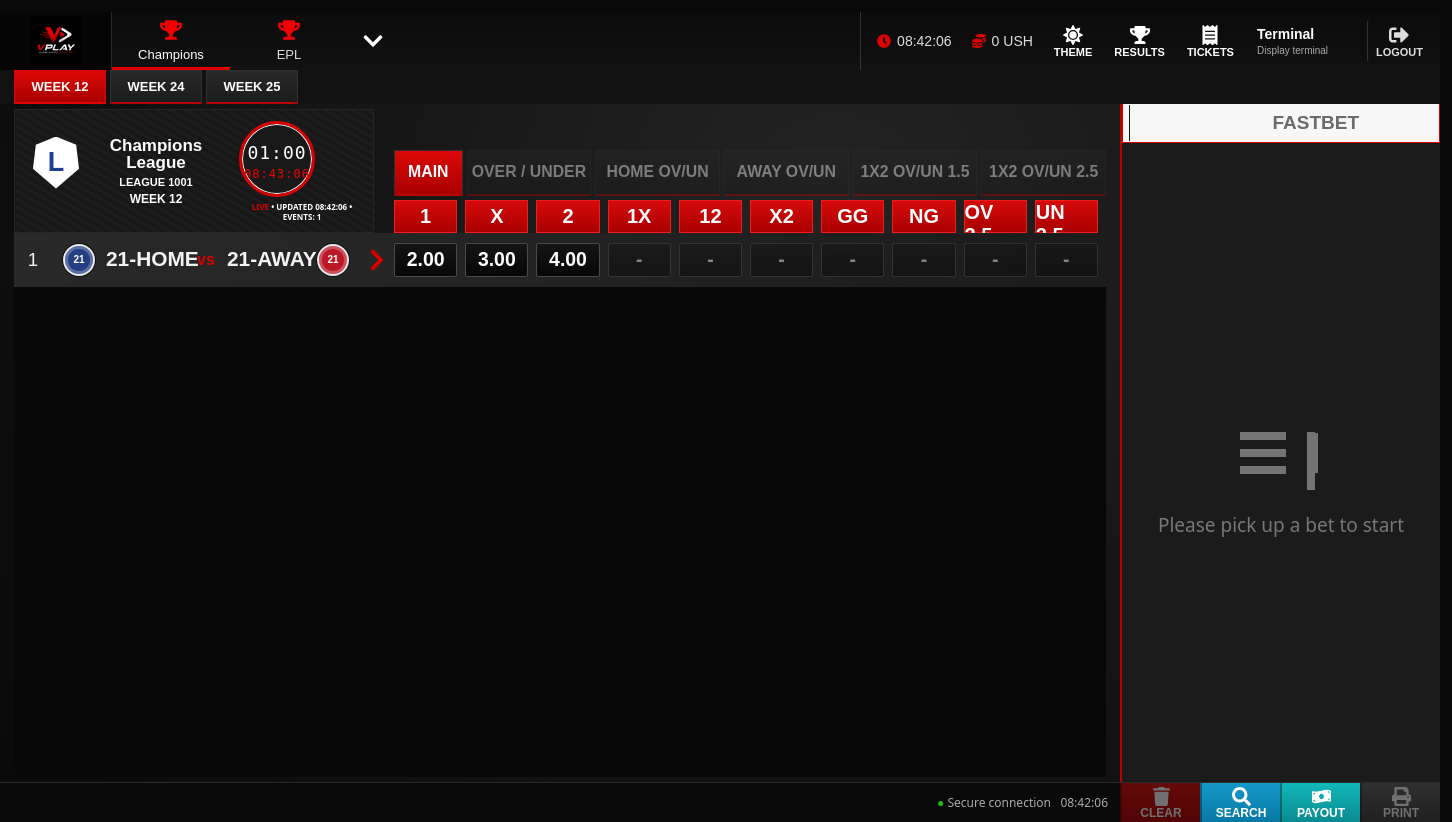
Test: league switches restore the selected week and socket removal promotes without overwriting another league
Expected: the text "21-HOME" is shown, [106,249,185,270]
Click the button "WEEK 24" at (156, 87), box [110,70,202,104]
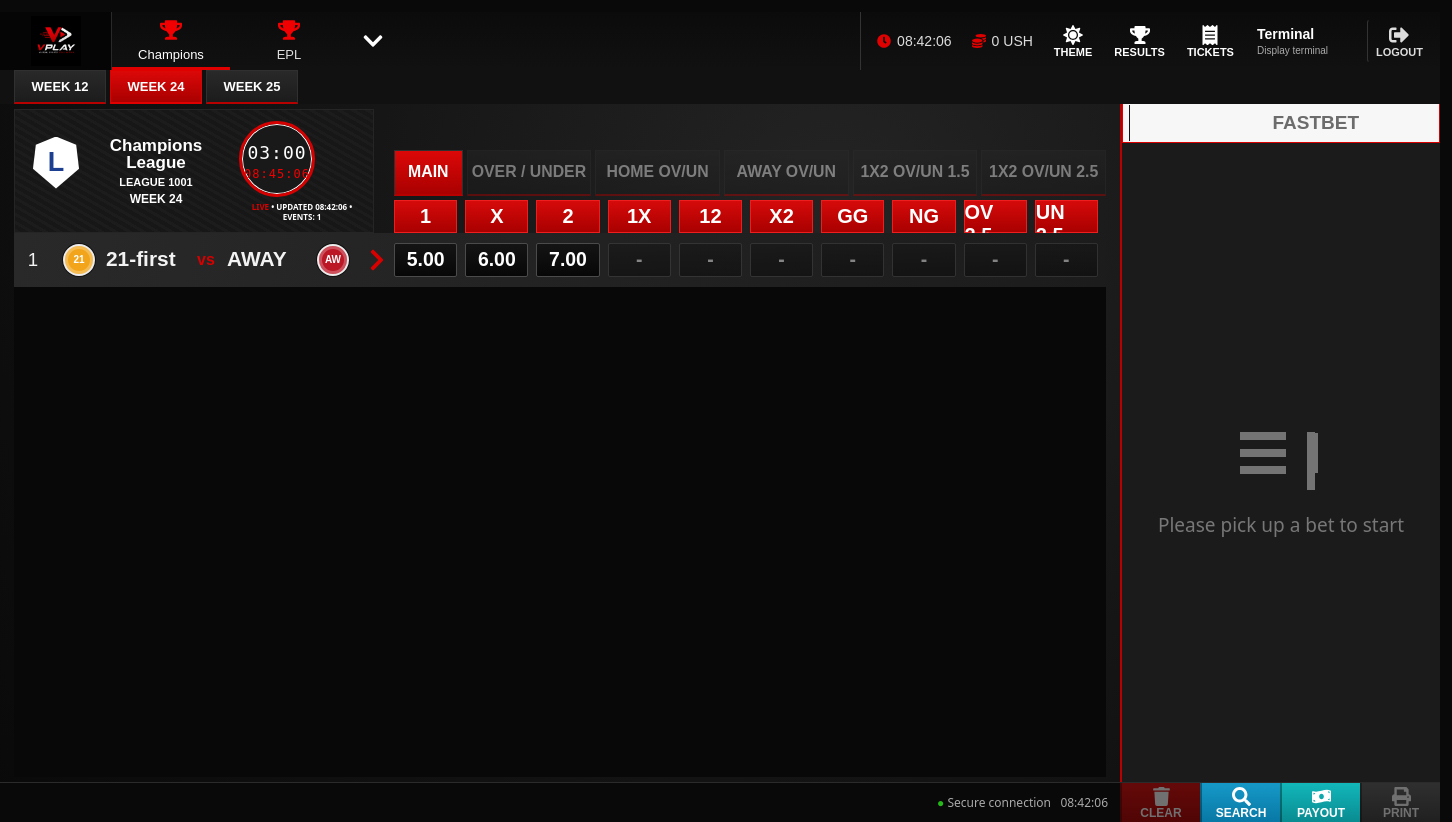
Click the button "EPL" at (289, 41), box [230,12,348,70]
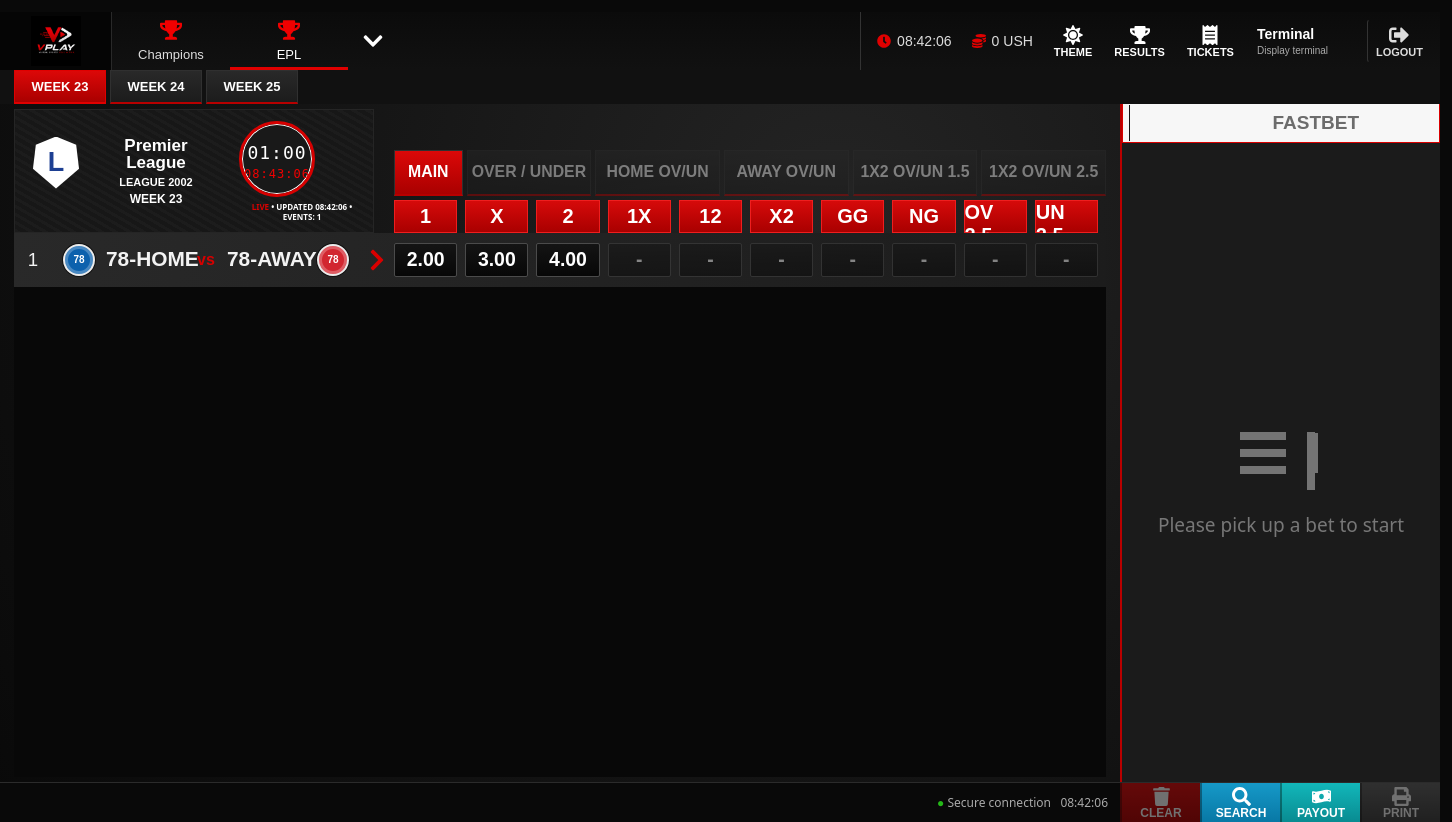
Expected: the text "78-HOME" is shown, [106,249,185,270]
Click the button "WEEK 25" at (252, 87), box [206,70,298,104]
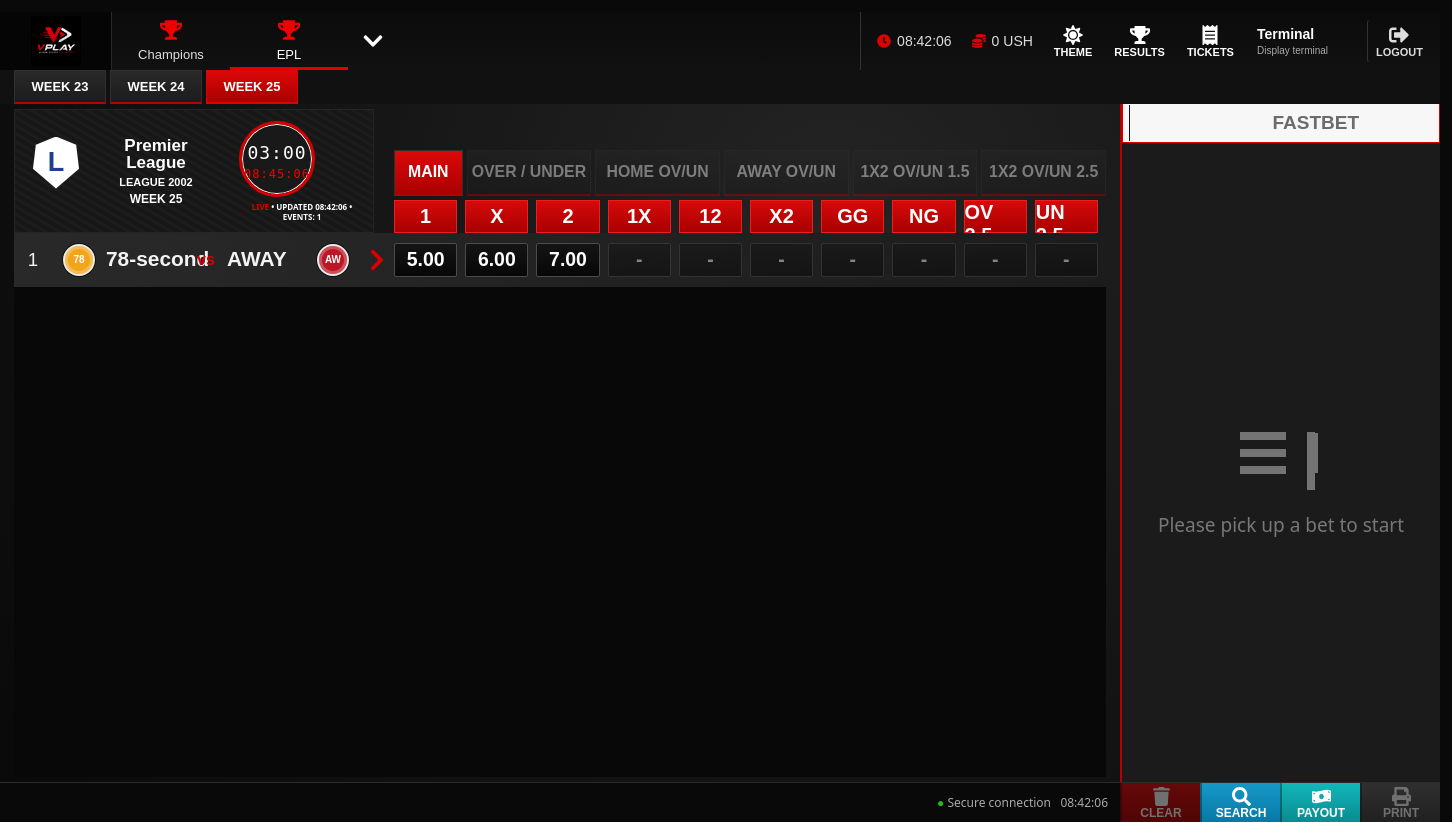
Click the button "Champions" at (171, 41), box [112,12,230,70]
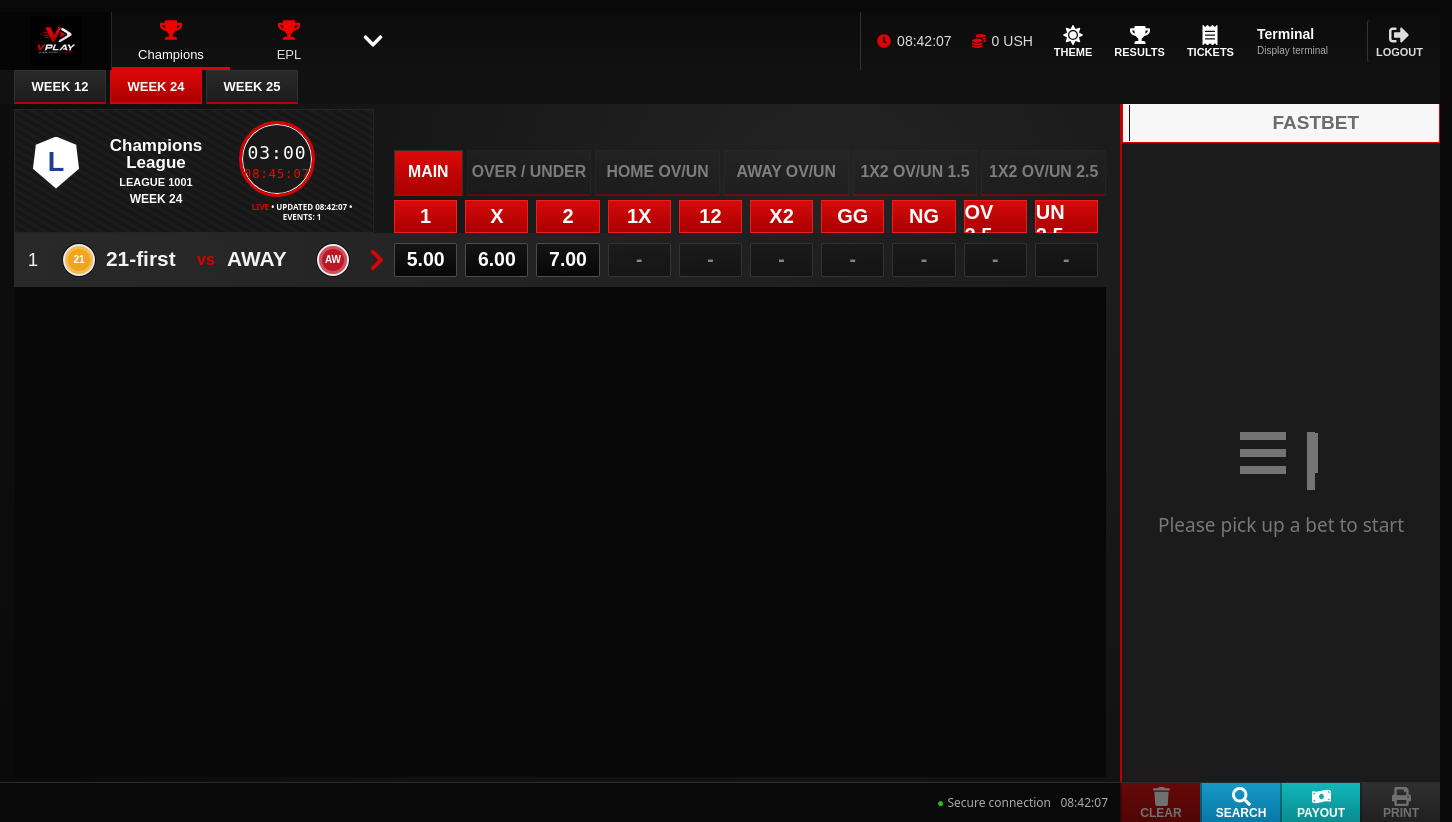
Expected: the text "21-first" is shown, [106,249,185,270]
Click the button with class "odd-button" showing "5.00" at (426, 260), box [394,243,457,277]
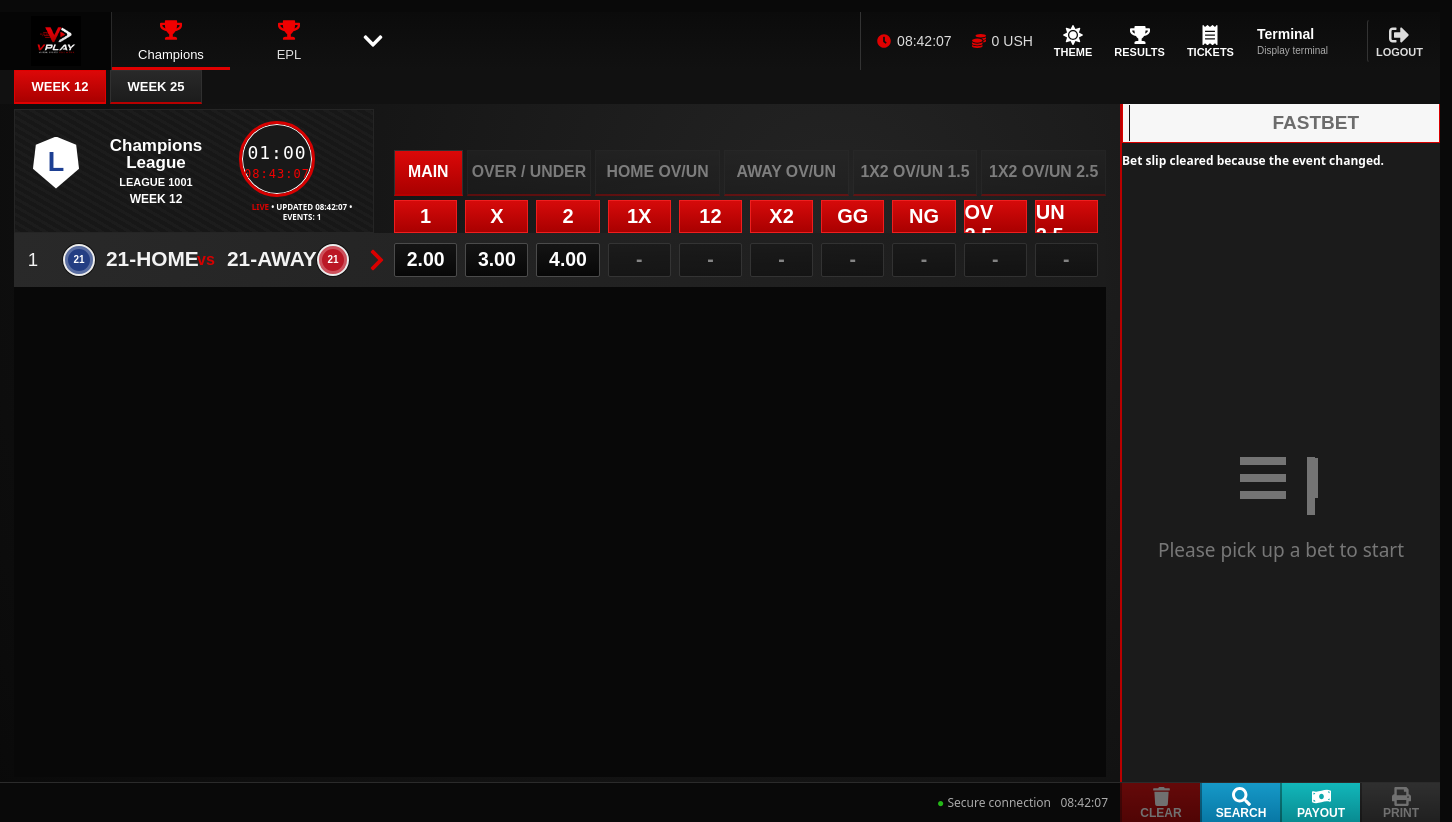
Expected: the button "WEEK 24" is gone
Click the button "EPL" at (289, 41), box [230,12,348,70]
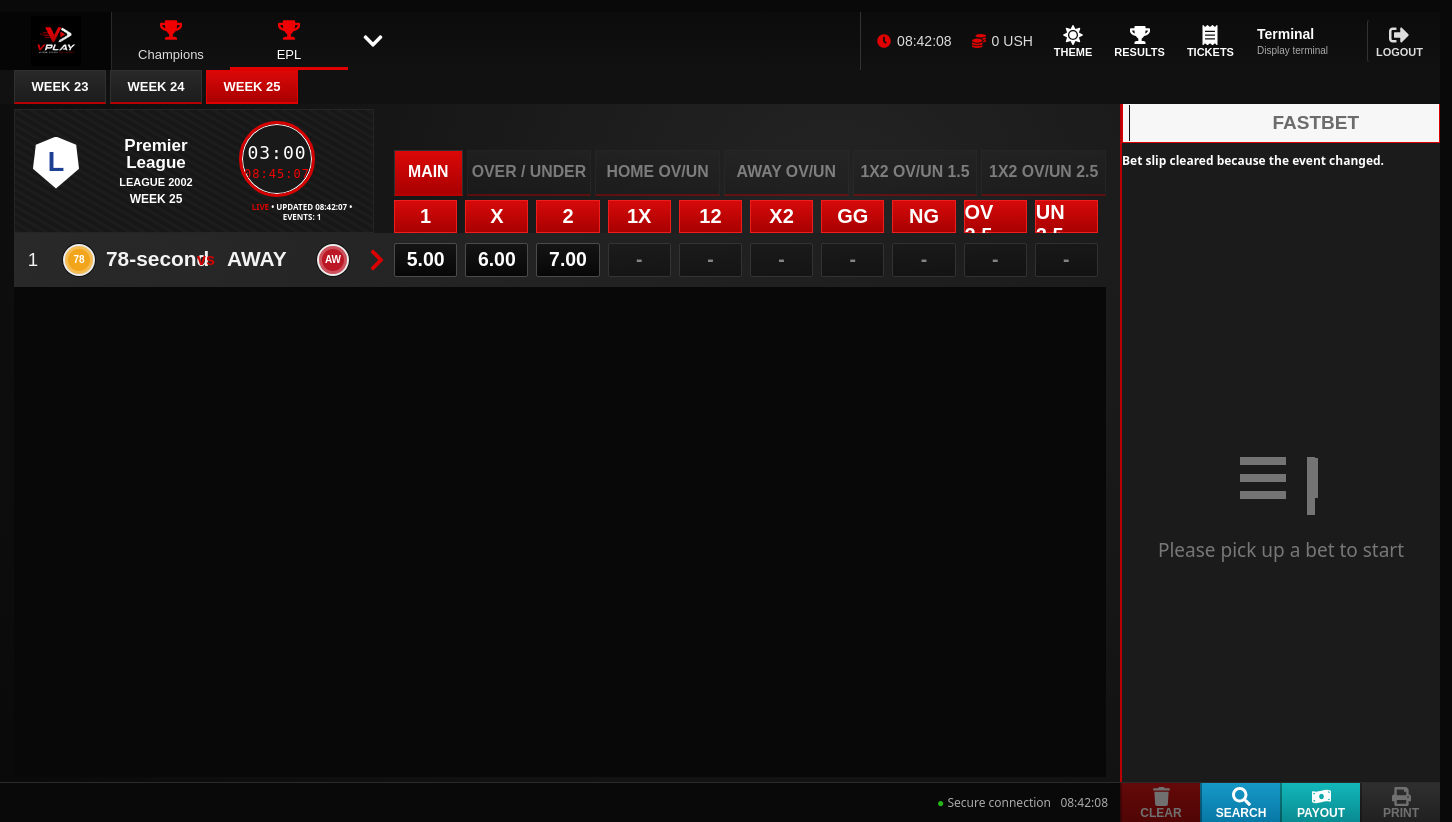
Expected: the text "78-second" is shown, [106,249,185,270]
